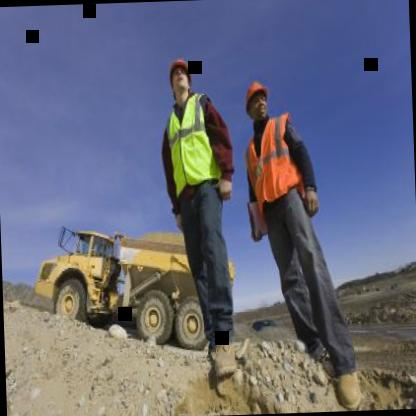helmet: (242, 78, 272, 123), (168, 54, 194, 104)
